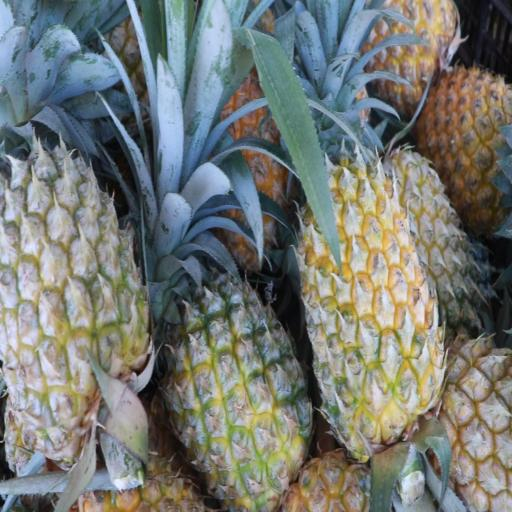------------------------------: (2, 150, 145, 442)
Pineapple - v8 v1: (303, 154, 440, 442), (169, 276, 305, 504), (419, 67, 512, 228), (359, 0, 459, 102)
